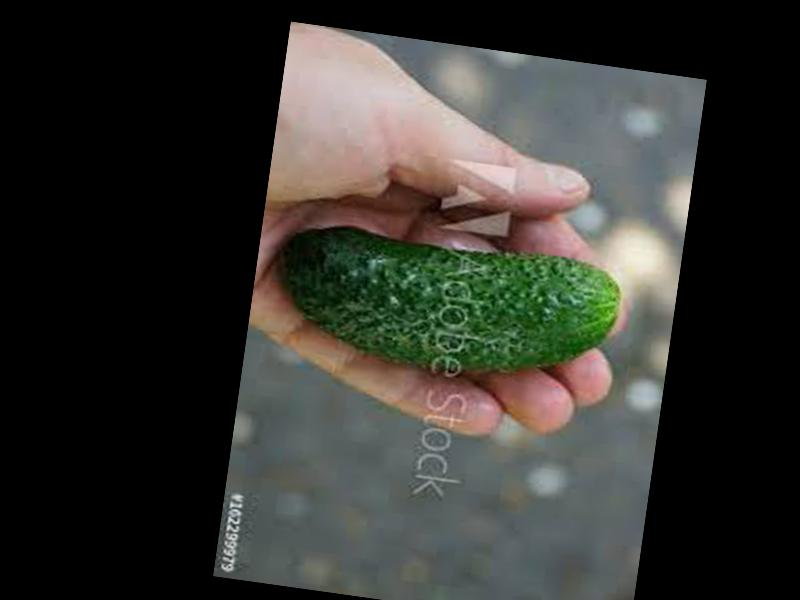Cucumber: (270, 218, 622, 394)
